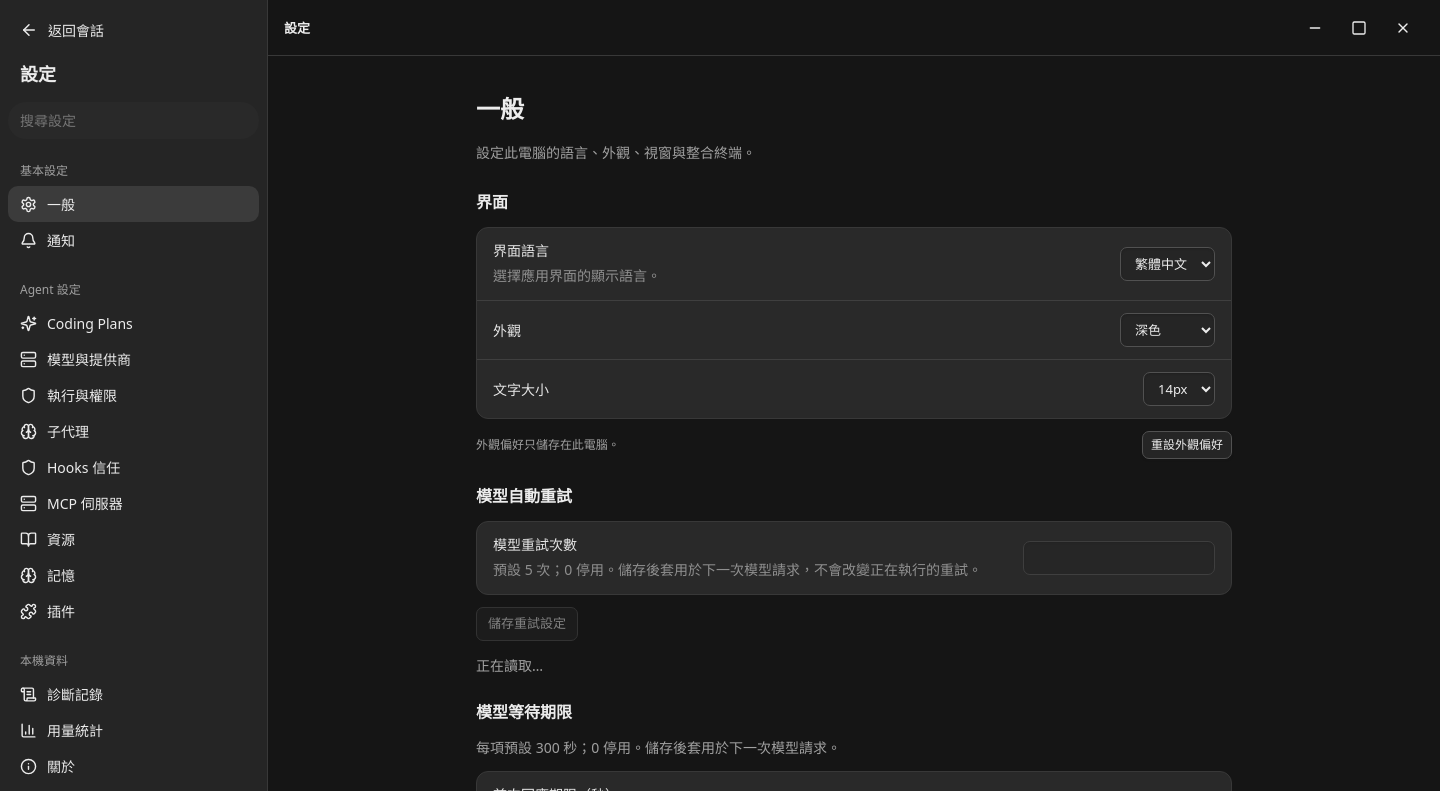
Scenario: refreshes the retained shell binding after a successful WSL defaults save
Click the button "執行與權限" at (134, 395), box [8, 377, 259, 413]
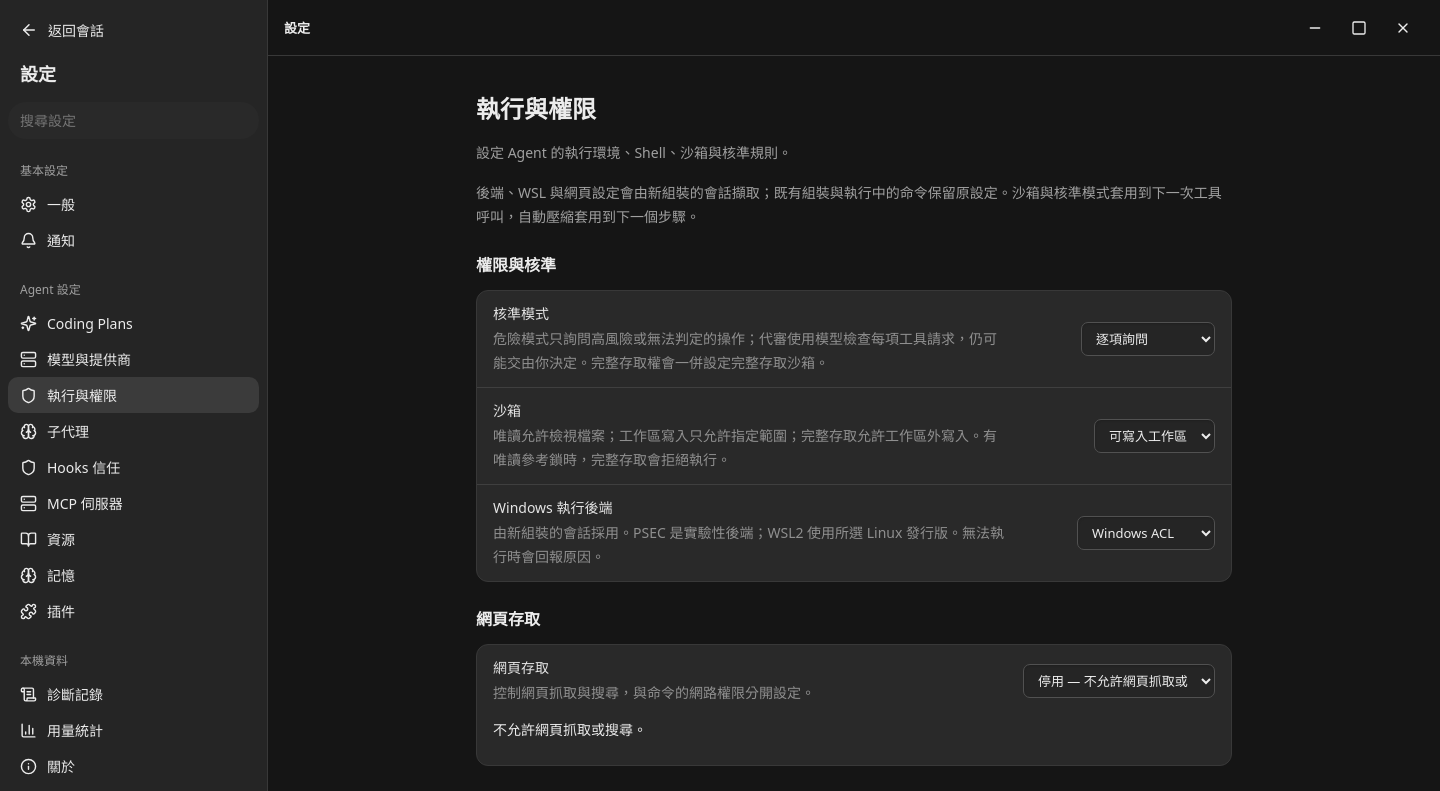
Select "WSL2 Linux" in the dropdown named "Windows 執行後端" at (1146, 533), box [1077, 516, 1215, 550]
(page scrolled)
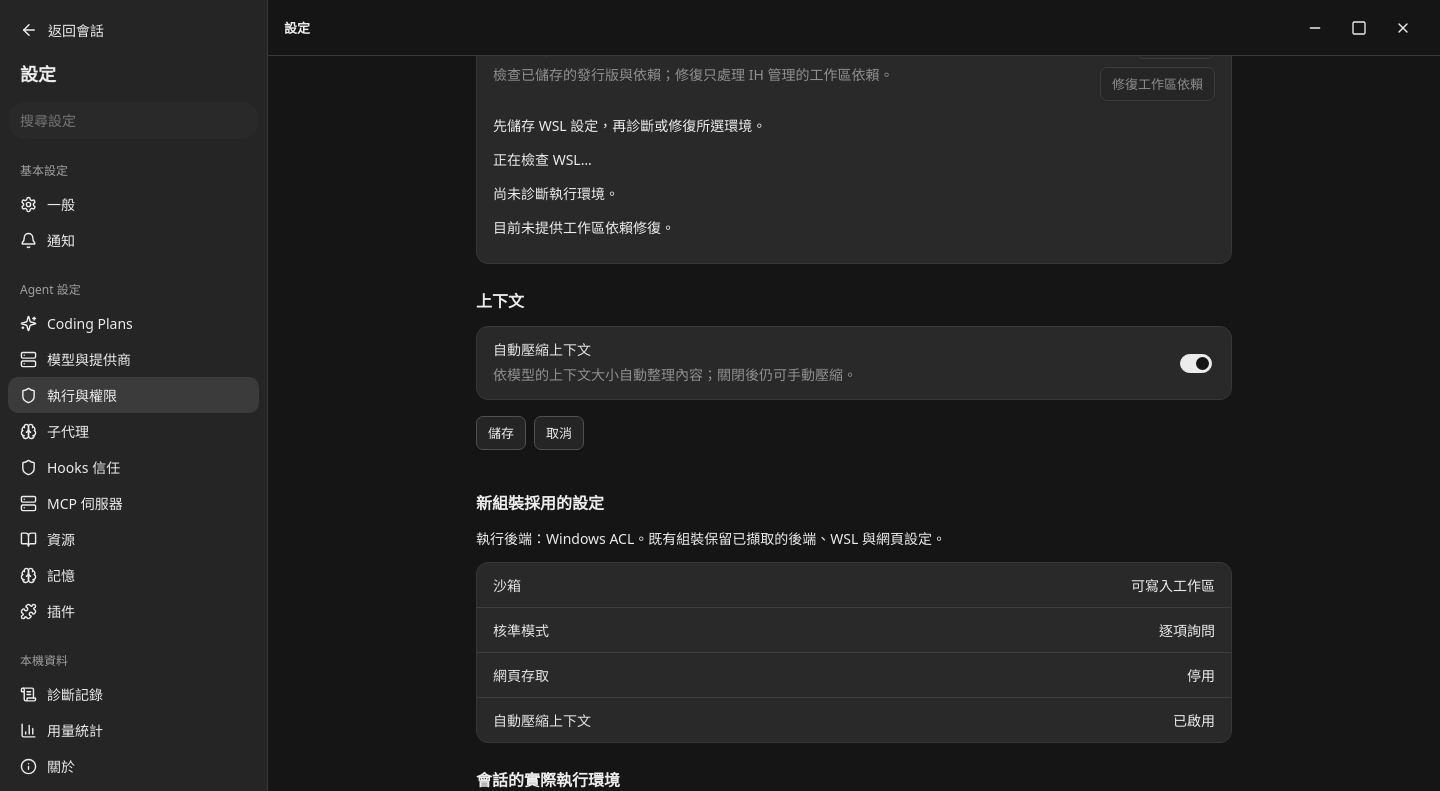
Click the button "儲存" at (501, 433), box [476, 416, 526, 450]
(page scrolled)
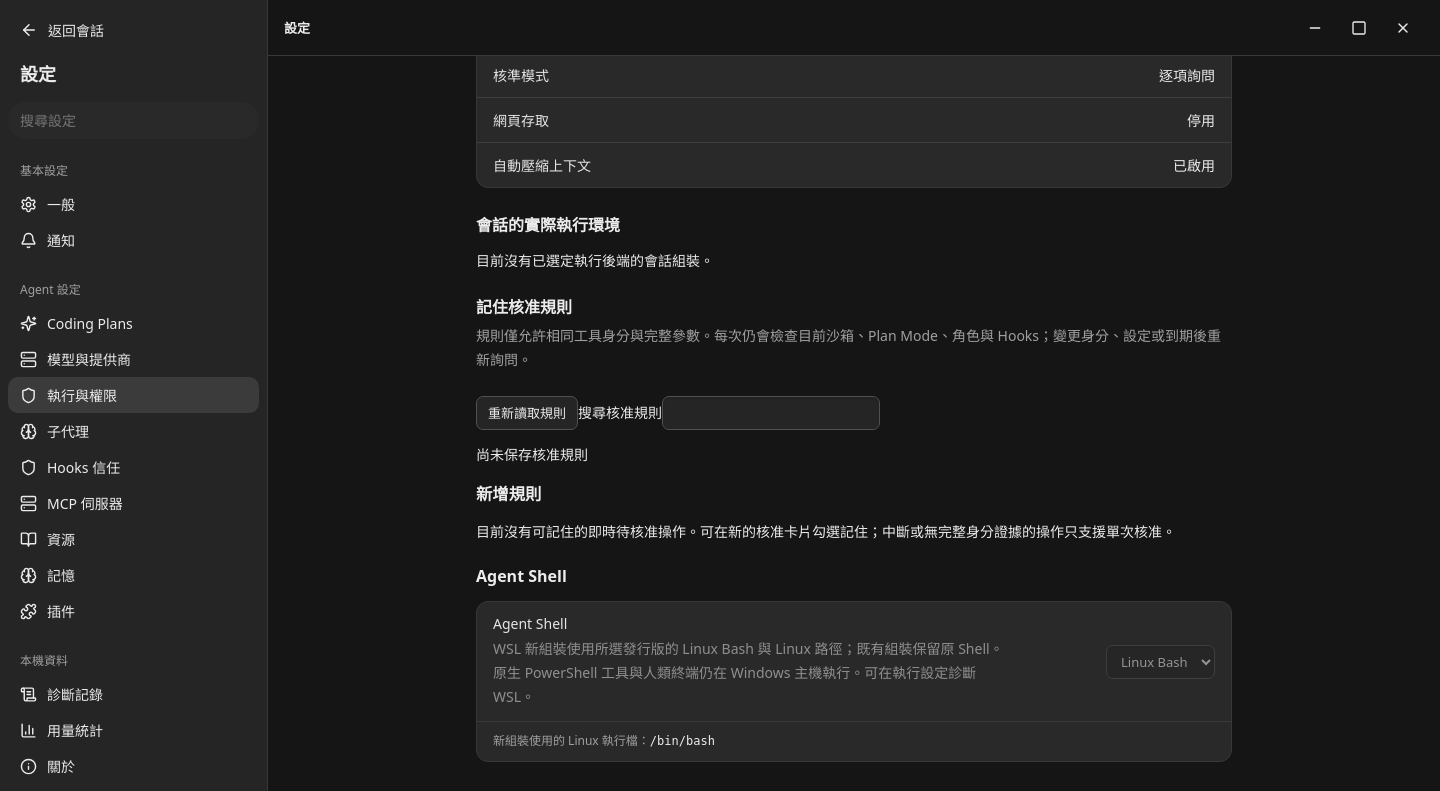
Check: the dropdown named "Agent Shell" shows "Linux Bash", box [1106, 645, 1215, 679]
Check: the dropdown named "Agent Shell" is disabled, box [1106, 645, 1215, 679]
Check: the text "/bin/bash" is shown, box [650, 734, 715, 748]
